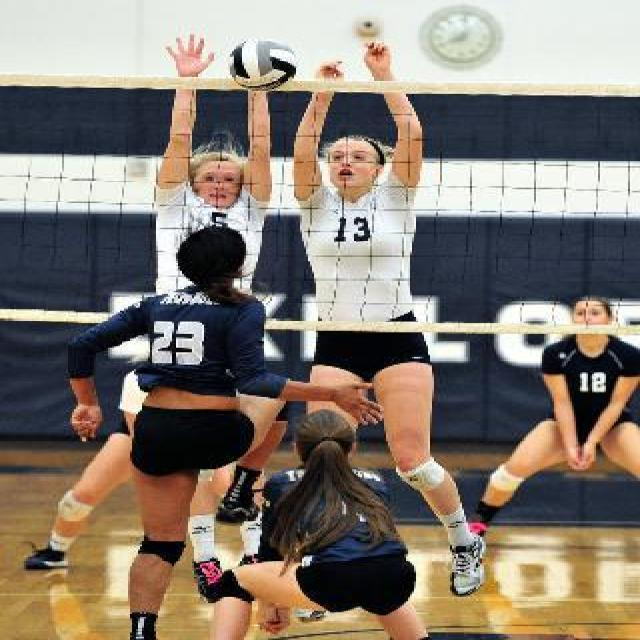volleyball: (228, 38, 298, 92)
